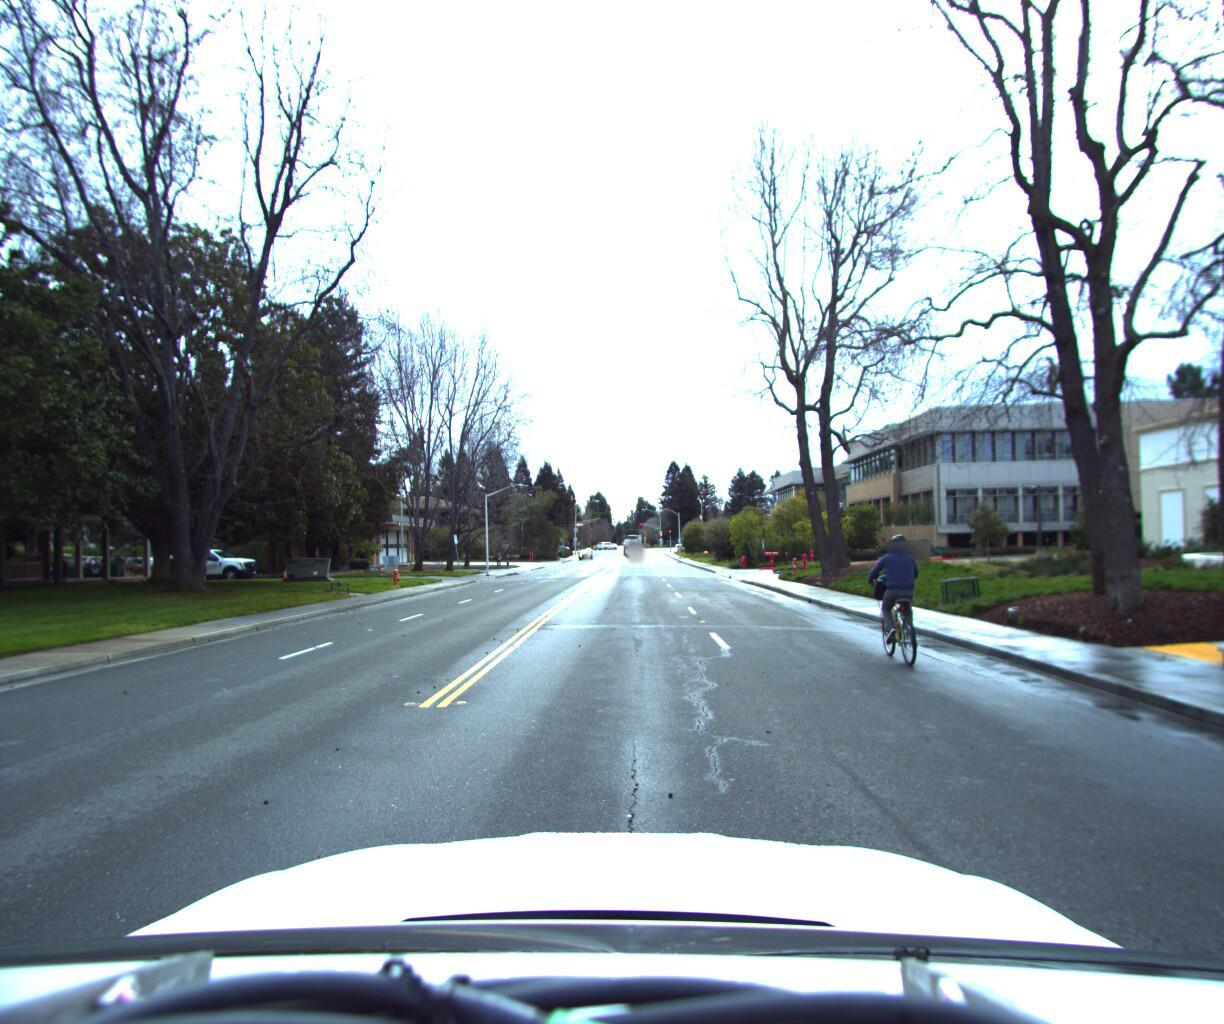bicycle: (852, 525, 945, 666)
